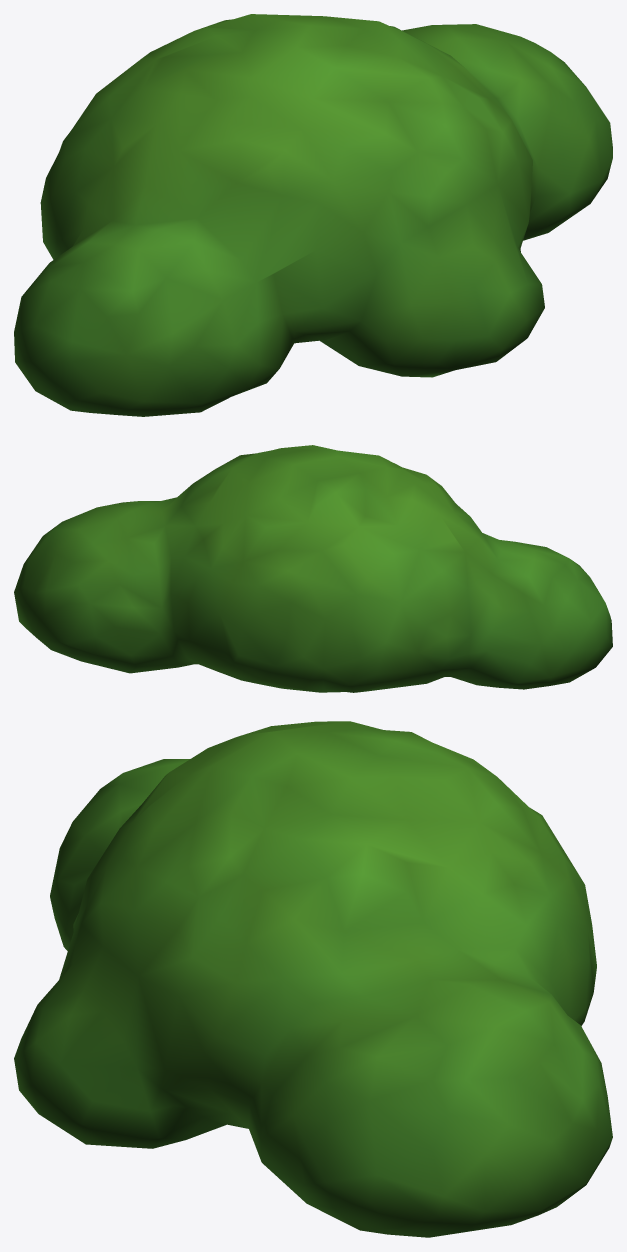
The model's file is bush-b.glb.
The picture shows the model from 3 angles, top to bottom: view 1: azimuth 30°, elevation 25°; view 2: azimuth 150°, elevation 25°; view 3: azimuth 270°, elevation 25°; orthographic projection. The views are drawn at different scales.
Parts seen in each view (by area): view 1: Bush B Leaves; view 2: Bush B Leaves; view 3: Bush B Leaves.
Part boxes in pixels (box(x1,y1,x2,y2)): Bush B Leaves: box(14, 14, 612, 416); Bush B Leaves: box(14, 445, 612, 692); Bush B Leaves: box(14, 721, 612, 1237).
Size of the model in its own units: 2.75 by 1.09 by 1.79.
